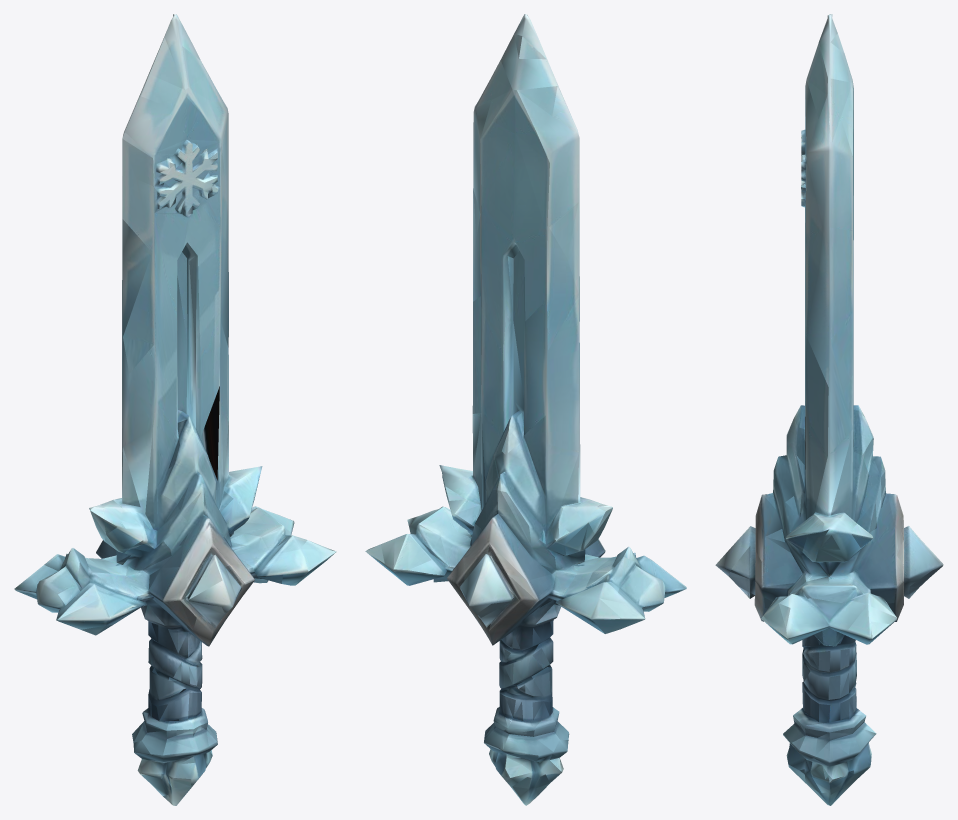
The model's file is w_rime.glb.
The picture shows the model from 3 angles, left to right: view 1: azimuth 30°, elevation 25°; view 2: azimuth 150°, elevation 25°; view 3: azimuth 270°, elevation 25°; orthographic projection.
Visible parts, largest first — view 1: Weapon; view 2: Weapon; view 3: Weapon.
Boxes of the visible parts, x1,y1,x2,y2 form: Weapon: (14, 14, 336, 805); Weapon: (365, 14, 686, 805); Weapon: (715, 14, 943, 805).
Bounding box in the file's own units: 0.3622 × 0.977 × 0.2553.
Materials: 1 (1 with a texture image).
